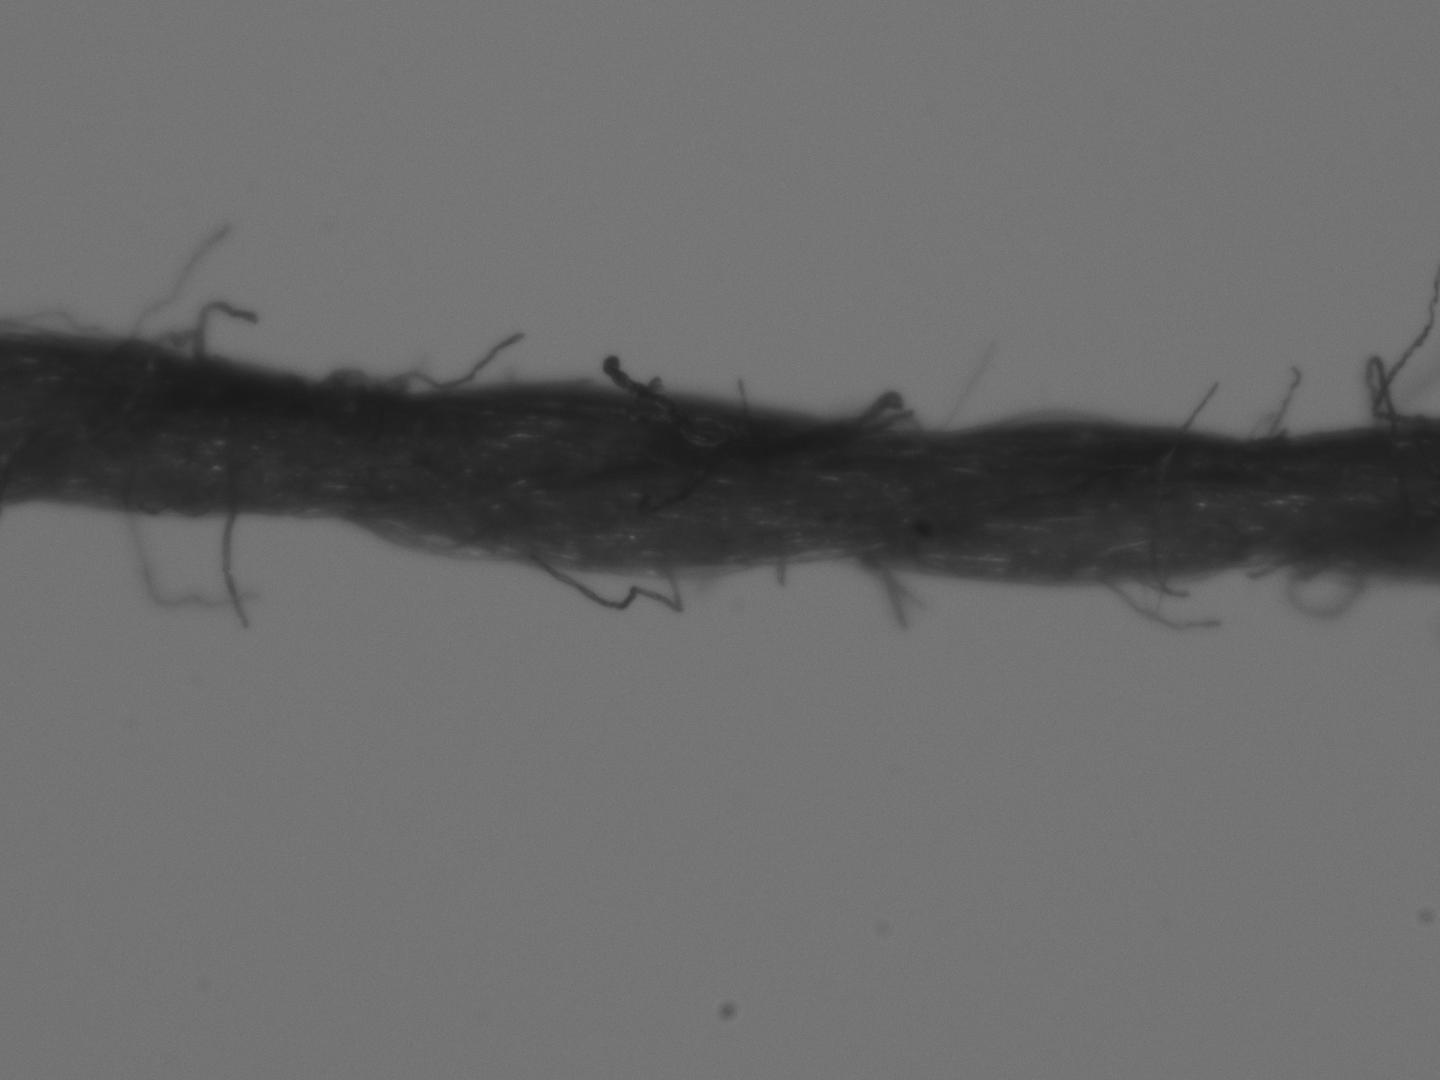loop_fiber: (516, 554, 696, 617), (1366, 289, 1439, 433), (134, 297, 259, 364), (840, 382, 932, 437), (9, 303, 119, 340), (1287, 568, 1366, 618)
protruding_fiber: (115, 505, 264, 613), (122, 222, 236, 338), (387, 326, 526, 391), (1091, 577, 1226, 631), (604, 348, 683, 416), (214, 504, 254, 638), (1262, 355, 1306, 445), (1174, 377, 1229, 438), (859, 559, 925, 607)
